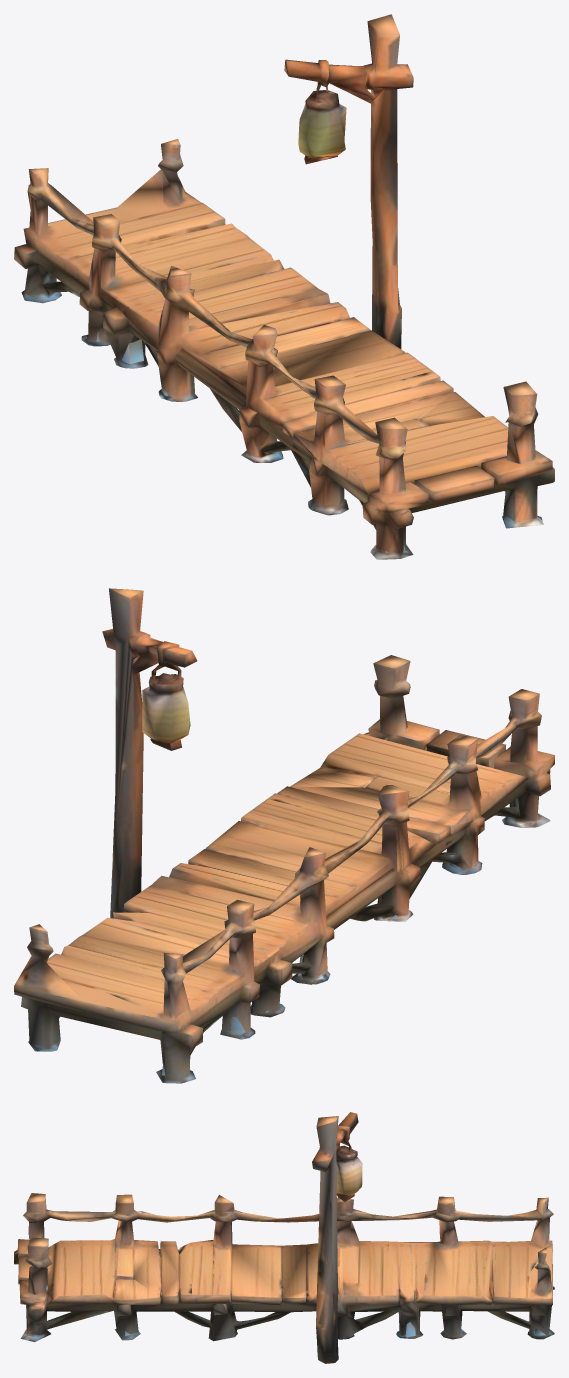
Rendered from zhanqiao.glb.
3 renders of one model, top to bottom at view 1: azimuth 30°, elevation 25°; view 2: azimuth 150°, elevation 25°; view 3: azimuth 270°, elevation 25°, orthographic. The views are drawn at different scales.
Parts seen in each view (by area): view 1: node_0; view 2: node_0; view 3: node_0.
Boxes of the visible parts, <box> form: node_0: <box>14,14,554,559</box>; node_0: <box>14,588,554,1083</box>; node_0: <box>14,1112,554,1363</box>.
Bounding box in the file's own units: 0.3872 × 0.513 × 1.04.
Materials: 1 (1 with a texture image).
